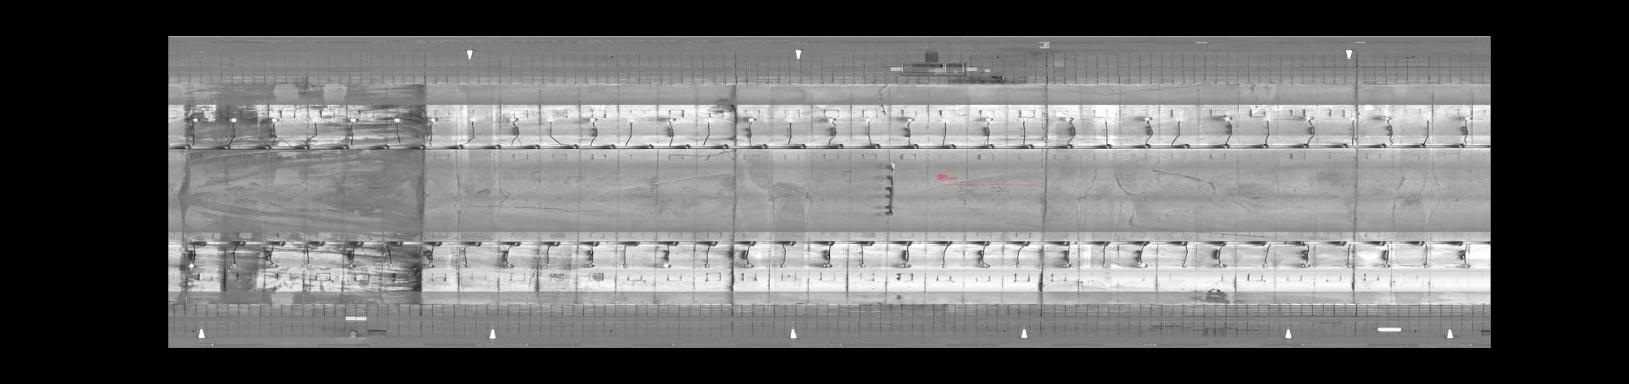light: (972, 259, 991, 272), (1303, 111, 1319, 125), (267, 112, 284, 126), (1140, 112, 1156, 125), (1222, 111, 1237, 124), (342, 260, 360, 271), (419, 260, 437, 271), (981, 114, 1000, 124), (897, 260, 916, 270), (506, 114, 524, 125), (1381, 112, 1396, 124), (1099, 114, 1115, 126), (584, 113, 599, 125), (308, 114, 323, 126), (934, 260, 950, 272), (1008, 259, 1023, 271), (902, 114, 920, 124), (1016, 114, 1033, 125), (346, 114, 363, 125), (185, 260, 202, 271), (498, 260, 514, 271), (743, 114, 760, 124), (1133, 260, 1151, 270), (583, 260, 598, 271), (853, 260, 869, 271), (1064, 114, 1080, 124), (225, 260, 244, 269), (1213, 260, 1230, 270), (226, 113, 240, 125), (1261, 113, 1276, 124), (468, 113, 482, 124), (301, 260, 316, 271), (1459, 260, 1473, 271), (824, 115, 842, 124), (1379, 260, 1394, 270), (1347, 114, 1360, 126), (941, 114, 954, 126), (1342, 259, 1355, 271), (427, 114, 440, 125), (188, 114, 202, 125), (700, 260, 714, 271), (1419, 260, 1433, 271), (264, 260, 281, 269), (820, 260, 836, 269), (1256, 260, 1273, 269), (1174, 114, 1189, 124), (659, 260, 673, 270), (541, 260, 553, 272), (383, 260, 396, 271), (458, 262, 474, 270), (1060, 260, 1075, 269), (1462, 114, 1475, 124), (702, 114, 716, 124), (1299, 260, 1312, 270), (390, 116, 406, 124), (1096, 260, 1111, 269), (1176, 260, 1191, 269), (1421, 114, 1433, 125), (545, 114, 558, 124), (618, 260, 631, 270), (665, 114, 678, 122), (743, 260, 756, 269), (775, 263, 789, 271), (624, 117, 638, 125), (864, 114, 874, 124), (786, 116, 797, 125)
